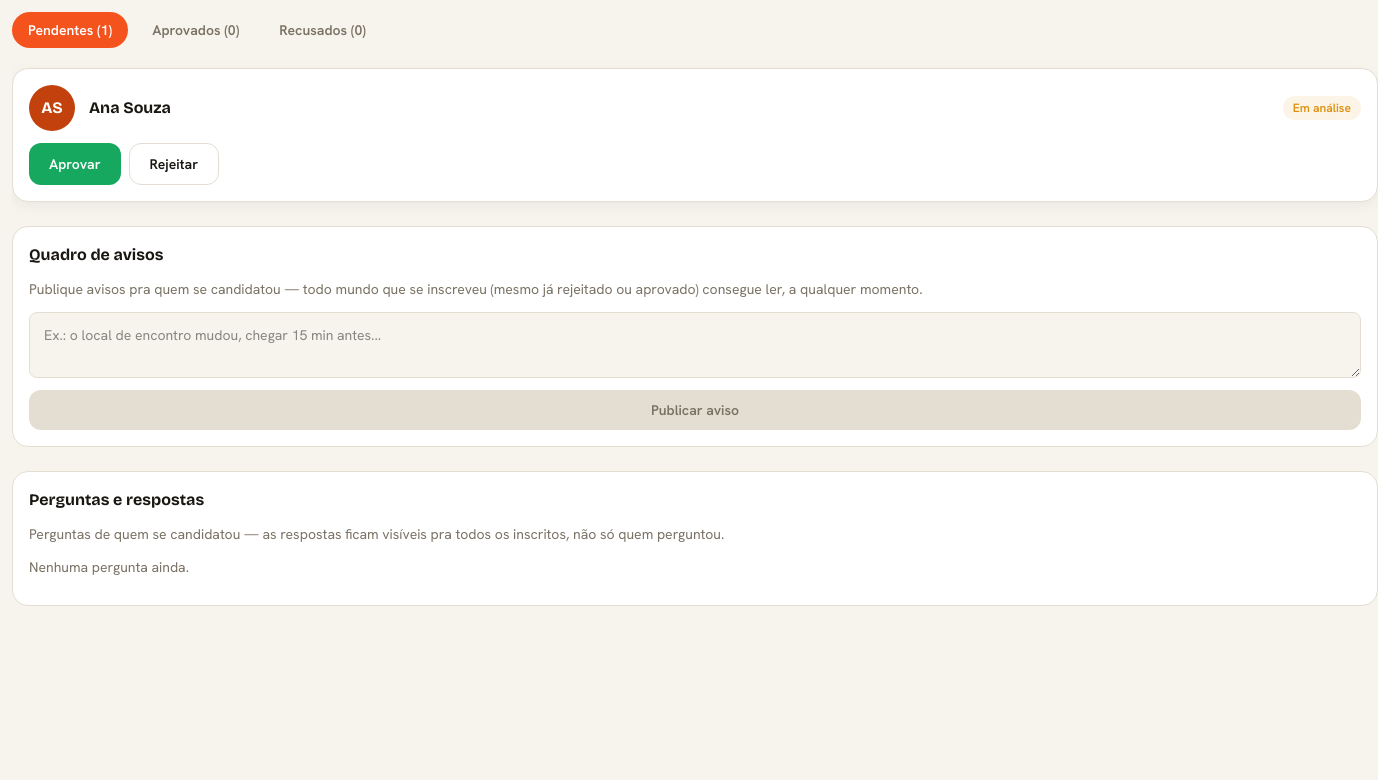
Test case: VagaCandidatosPage › aprova um candidato ao confirmar, recarrega a lista e mostra o turno criado
Expected: the text "Ana Souza" is shown, [89,98,171,117]
Click the button "Aprovar".
click(75, 164)  # box [29,143,120,185]
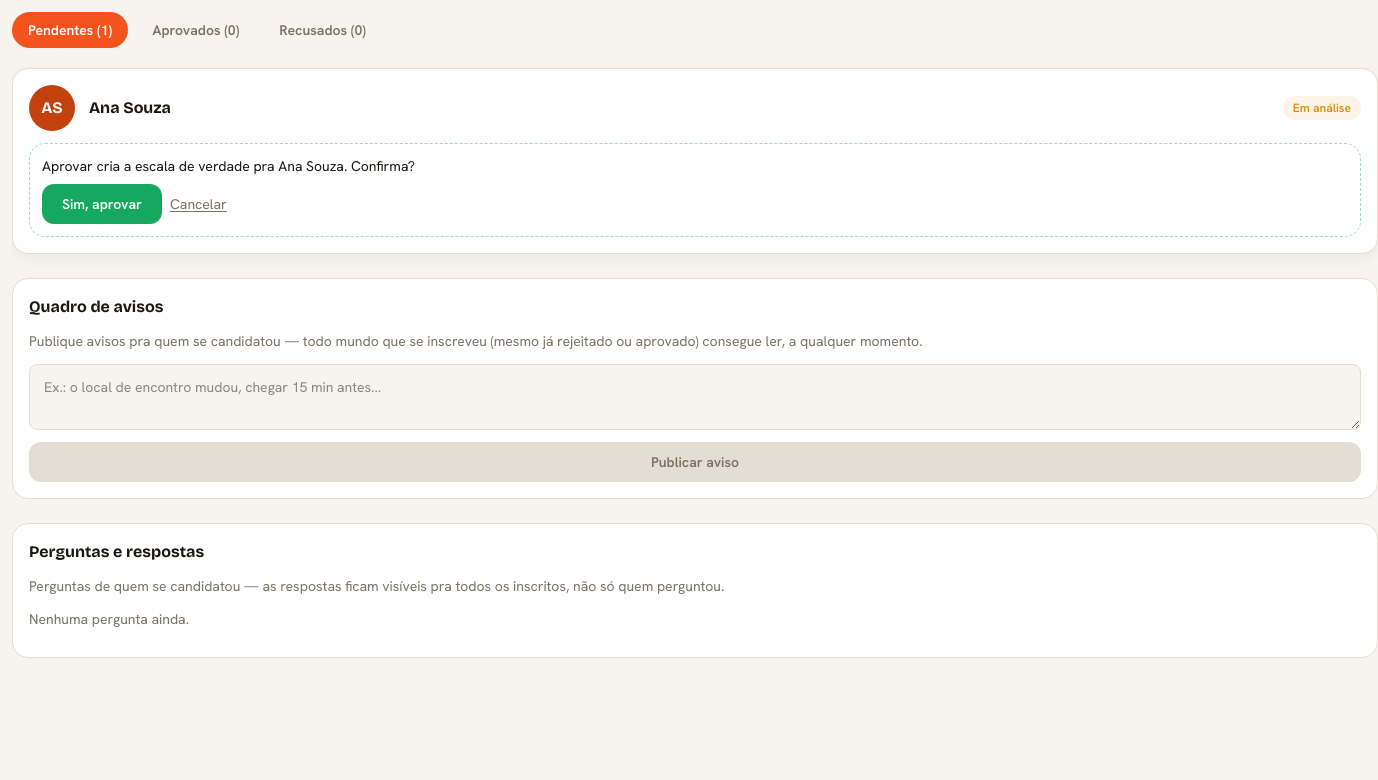
Click the button "Sim, aprovar".
click(102, 204)  # box [42,184,162,224]
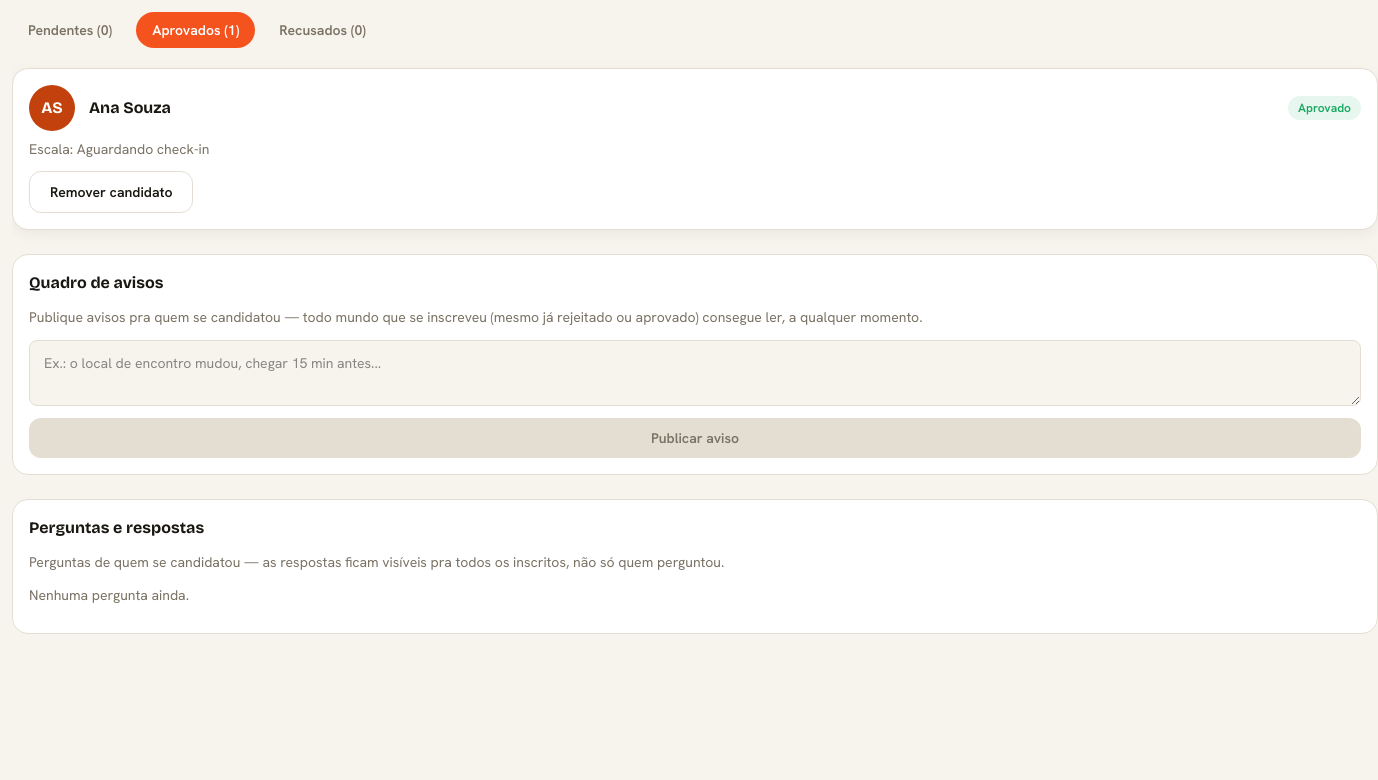
Result: the text "Aprovado" is shown at [1288,96,1361,120]
Result: the text "Escala: Aguardando check-in" is shown at [29,140,210,158]
